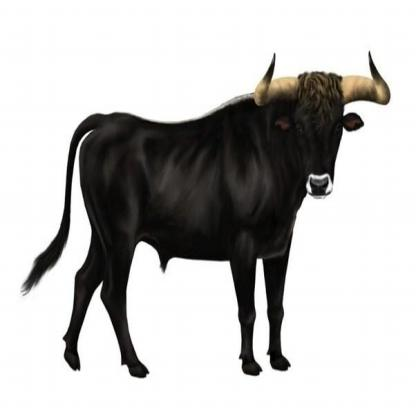cow: (65, 73, 347, 377)
